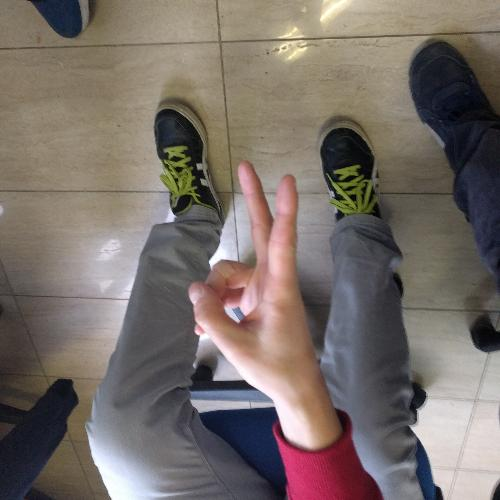scissors: (181, 154, 317, 411)
